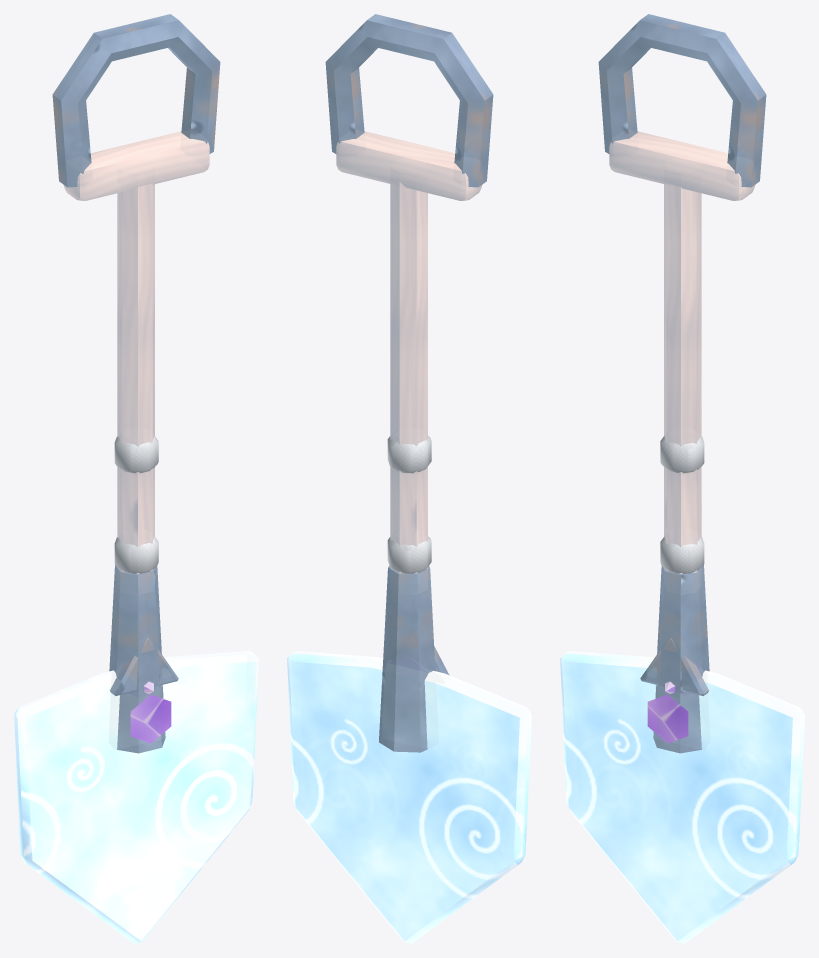
File: shovel_t3.gltf
The picture shows the model from 3 angles, left to right: view 1: azimuth 30°, elevation 25°; view 2: azimuth 150°, elevation 25°; view 3: azimuth 330°, elevation 25°; orthographic projection.
Visible parts, largest first — view 1: shovel_t3_mesh; view 2: shovel_t3_mesh; view 3: shovel_t3_mesh.
Boxes of the visible parts, x1,y1,x2,y2 form: shovel_t3_mesh: (14, 14, 258, 943); shovel_t3_mesh: (287, 14, 531, 943); shovel_t3_mesh: (560, 14, 804, 943).
Size of the model in its own units: 0.3593 by 1.3 by 0.0845.
Materials: 5 (5 with a texture image).
